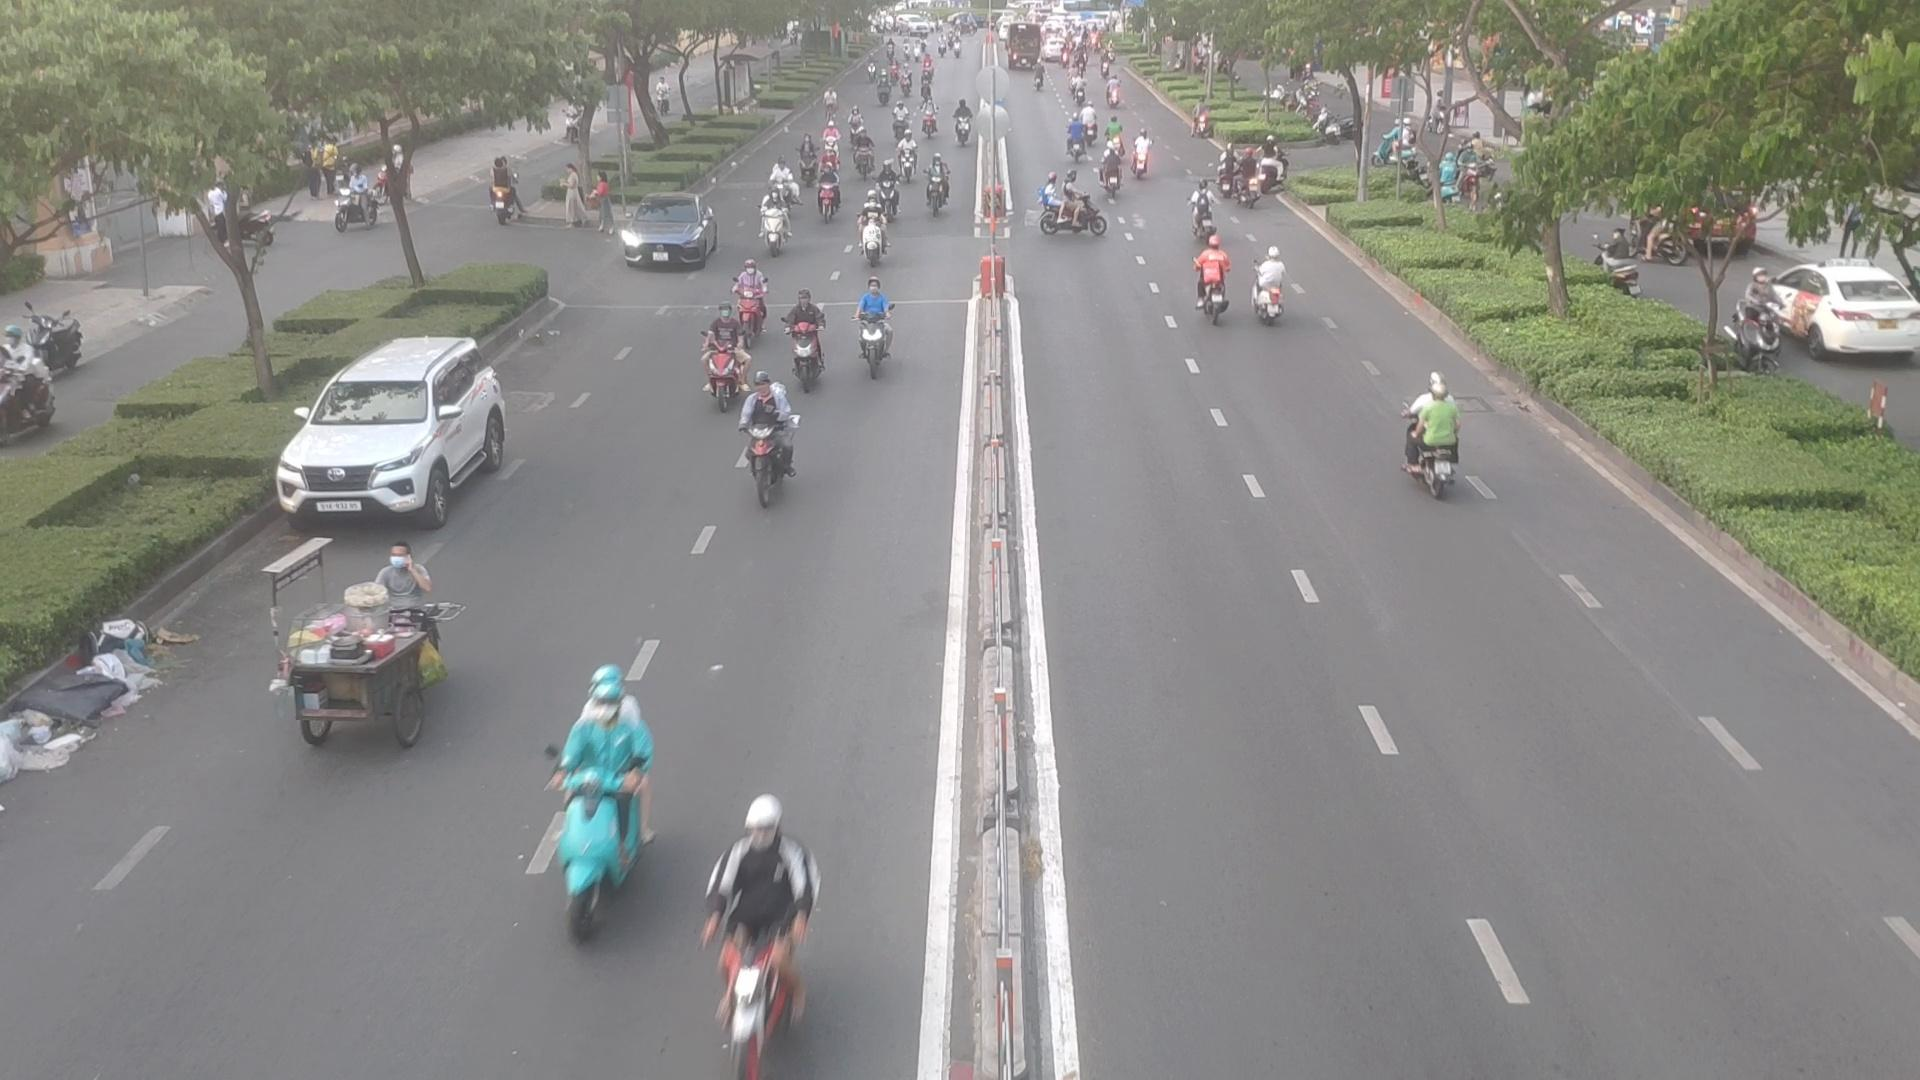car: (281, 331, 522, 522), (1755, 268, 1920, 364), (615, 196, 724, 273)
motorbike: (524, 683, 661, 942), (711, 785, 806, 1077), (1395, 380, 1474, 495), (733, 375, 800, 501), (848, 280, 905, 375), (699, 320, 756, 406), (789, 286, 836, 384), (1038, 189, 1112, 243), (1191, 237, 1240, 318), (1251, 248, 1298, 320), (723, 262, 770, 332), (853, 200, 891, 265), (753, 193, 793, 255), (1193, 177, 1220, 247), (916, 154, 948, 208), (816, 171, 845, 220), (1095, 152, 1124, 198)
